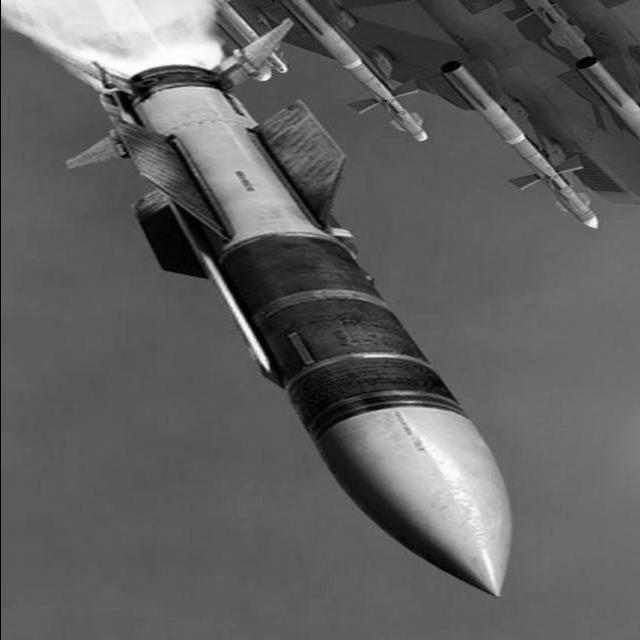missile: (120, 90, 516, 628)
